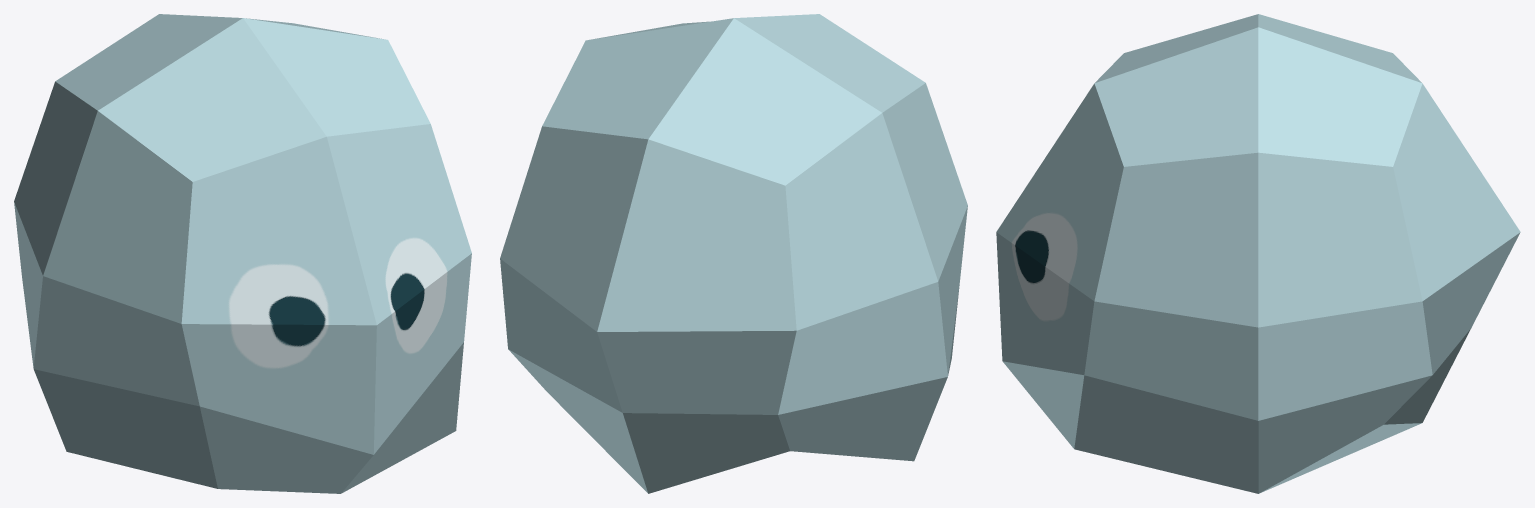
Rendered from enemy.obj.
3 renders of one model, left to right at view 1: azimuth 30°, elevation 25°; view 2: azimuth 150°, elevation 25°; view 3: azimuth 270°, elevation 25°, orthographic. The views are drawn at different scales.
Parts seen in each view (by area): view 1: 立方体; view 2: 立方体; view 3: 立方体.
Boxes of the visible parts, left/top/right/bottom form: 立方体: left=14, top=14, right=471, bottom=493; 立方体: left=500, top=14, right=967, bottom=493; 立方体: left=996, top=14, right=1520, bottom=493.
Bounding box in the file's own units: 0.8793 × 0.8395 × 0.9739.
Materials: 1 (1 with a texture image).
